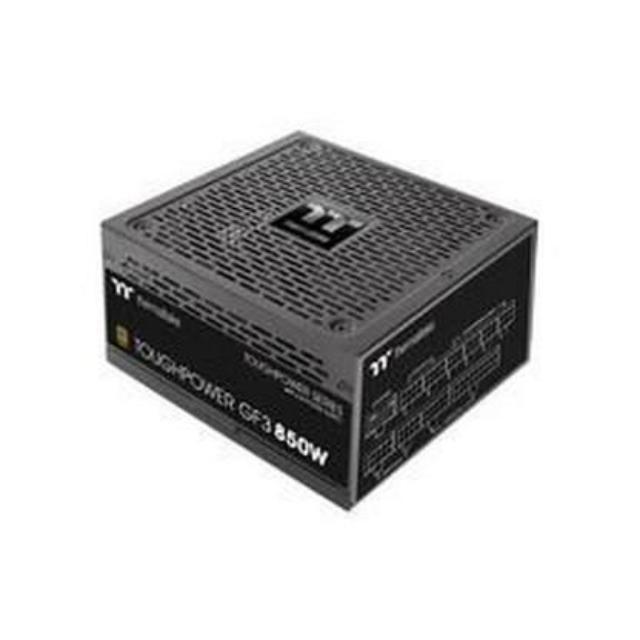PSU: (94, 120, 542, 518)
